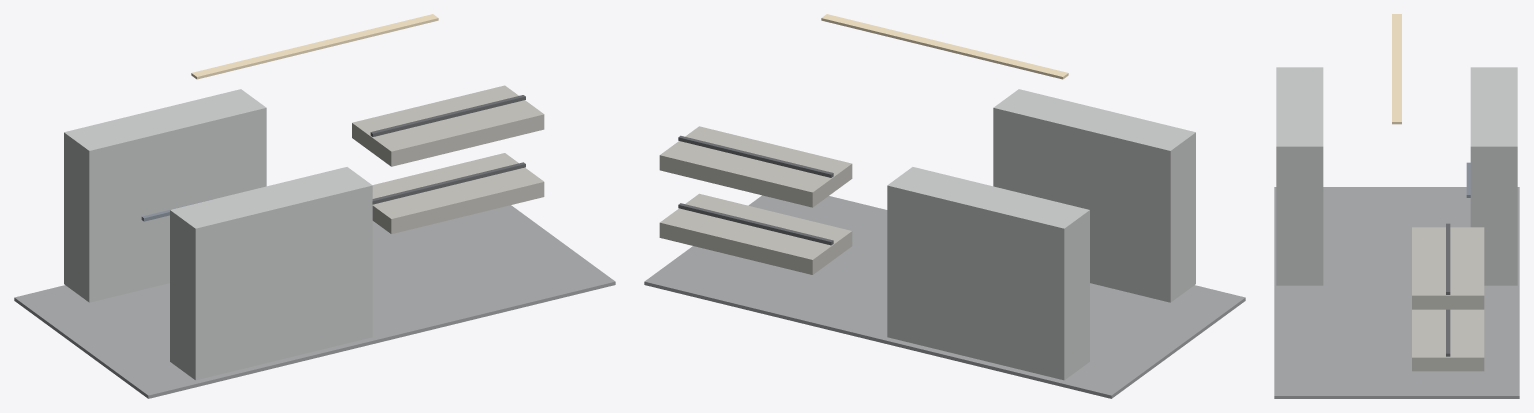
File: hab_interior.glb
3 renders of one model, left to right at view 1: azimuth 30°, elevation 25°; view 2: azimuth 150°, elevation 25°; view 3: azimuth 270°, elevation 25°, orthographic. The views are drawn at different scales.
Visible parts, largest first — view 1: hab_interior; view 2: hab_interior; view 3: hab_interior.
Boxes of the visible parts, x1,y1,x2,y2 form: hab_interior: [14, 14, 615, 398]; hab_interior: [644, 14, 1245, 398]; hab_interior: [1274, 14, 1519, 398].
Bounding box in the file's own units: 5.85 × 2.93 × 2.88.
